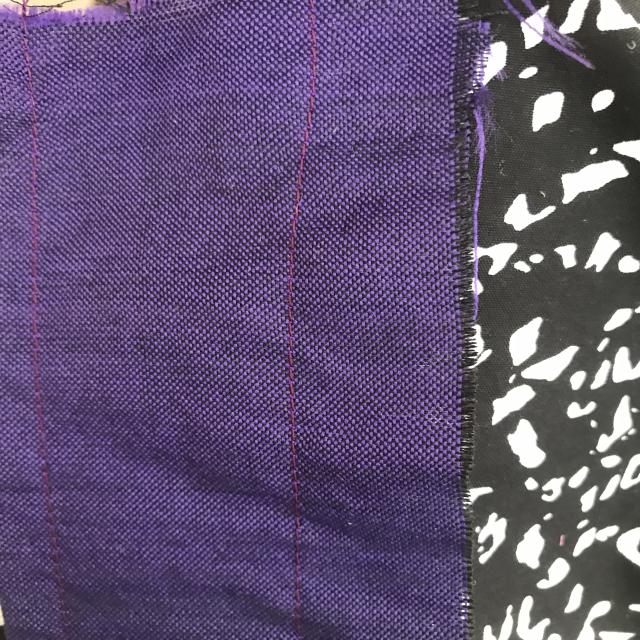good: (271, 226, 310, 495)
